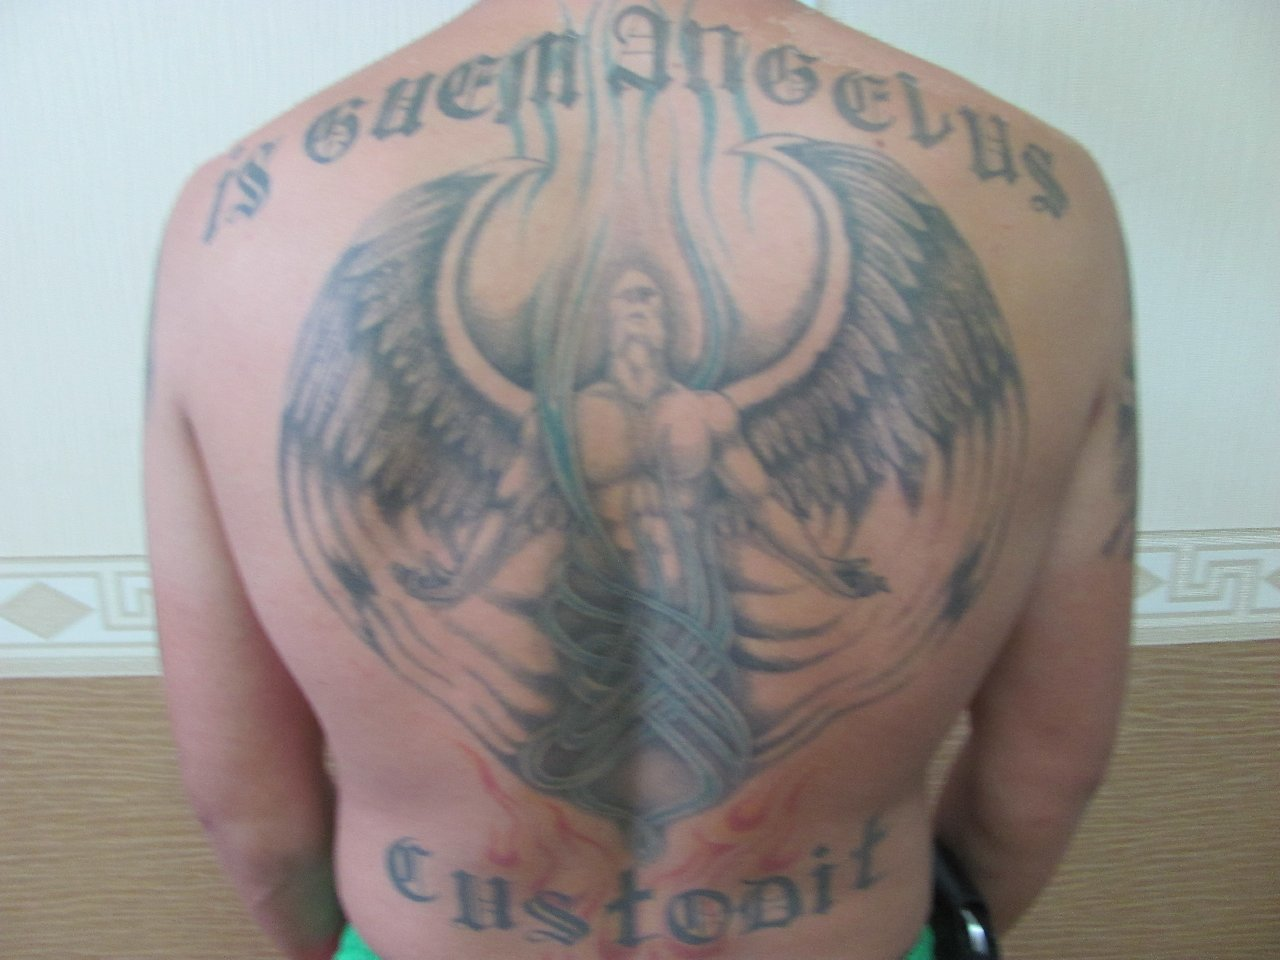tatu1_angel: (277, 195, 1037, 654)
